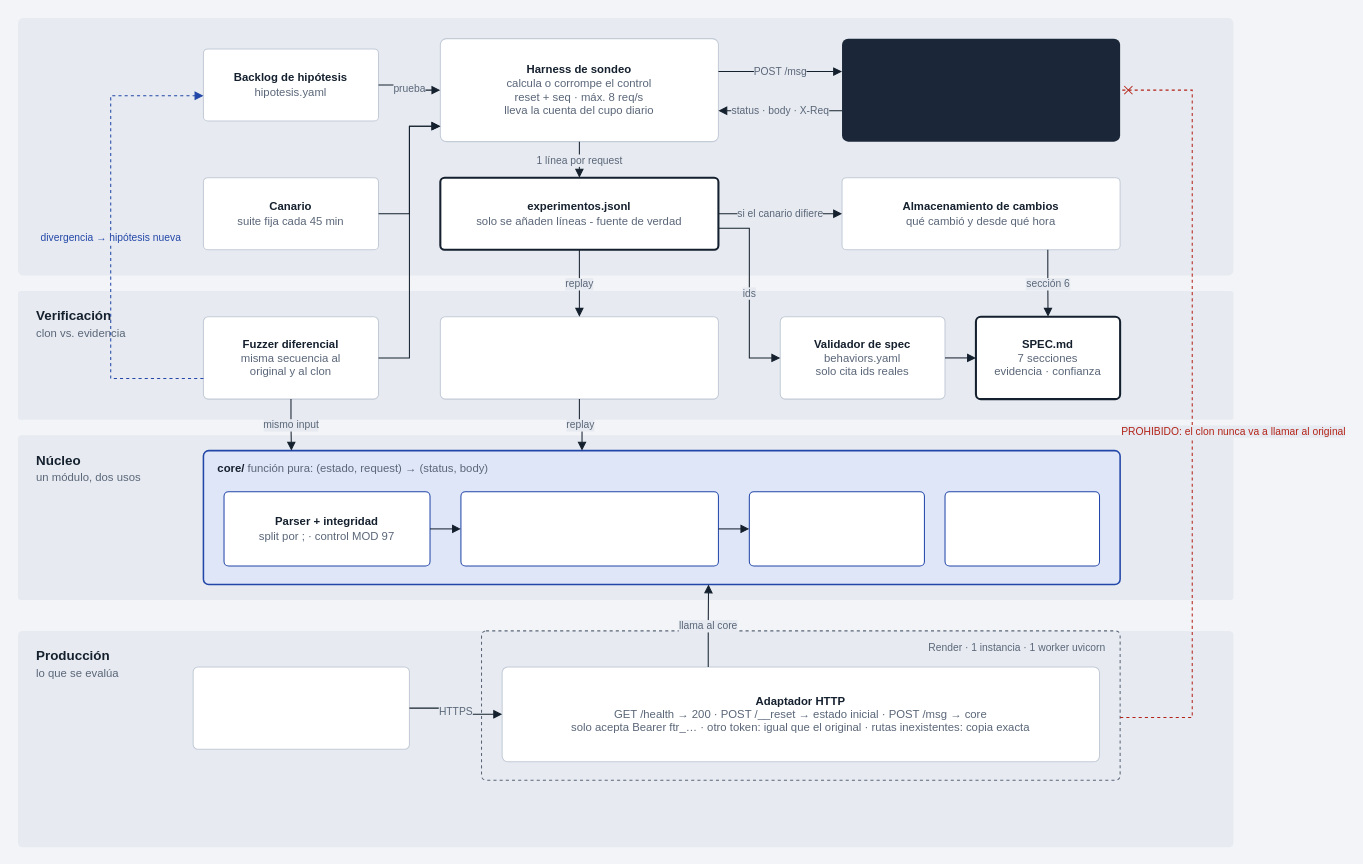
Image size: 1363x864. Some labels were removed from this diagram. Here are the shapes that lost their labels. From the top down, the box of each, then its label:
(842, 38, 1120, 141): Caja negra servicio original (Railway) Bearer cn-p-… · estado por token
(18, 18, 1233, 275): Descubrimiento contra el original
(439, 316, 718, 399): Reproductor cada línea del log → core → diff % de conformidad = gate de deploy
(460, 491, 718, 566): Comandos PING · ALTA · CONSULTA · DEPOSITO TRANSFER · ANULA · ¿otros?
(748, 491, 924, 566): Estado por token cuentas · ops · límites
(944, 491, 1100, 566): Errores status + texto exacto
(192, 666, 409, 749): Evaluador 100 tests · reset antes de cada uno Bearer ftr_…
